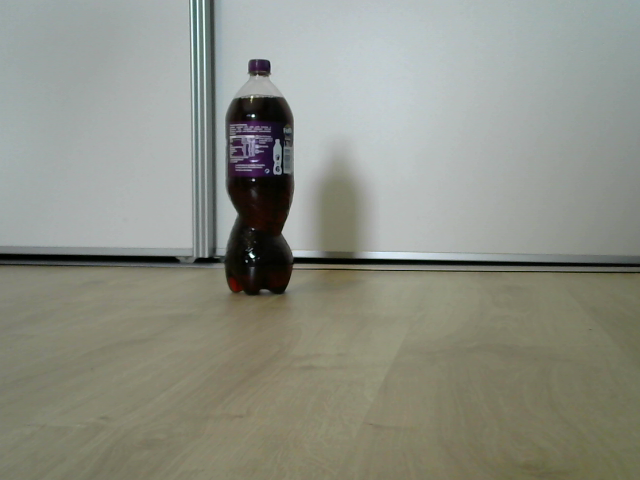bottle: (225, 59, 294, 297)
